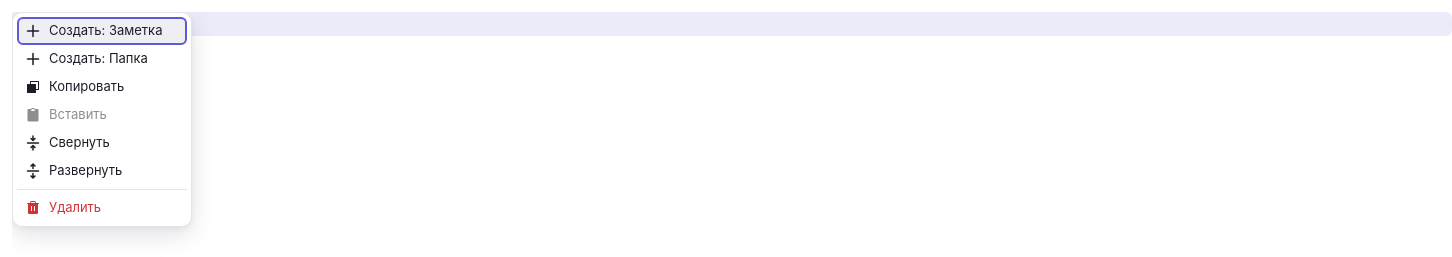
Test case: Tree: context menu › tree_create_addsChildByChangesetAndShowsItInTree
What coordinates should you click on to do the following:
click the menu item "Создать: Заметка"
I would click on:
 (102, 31)
Its box is [17, 17, 187, 45].
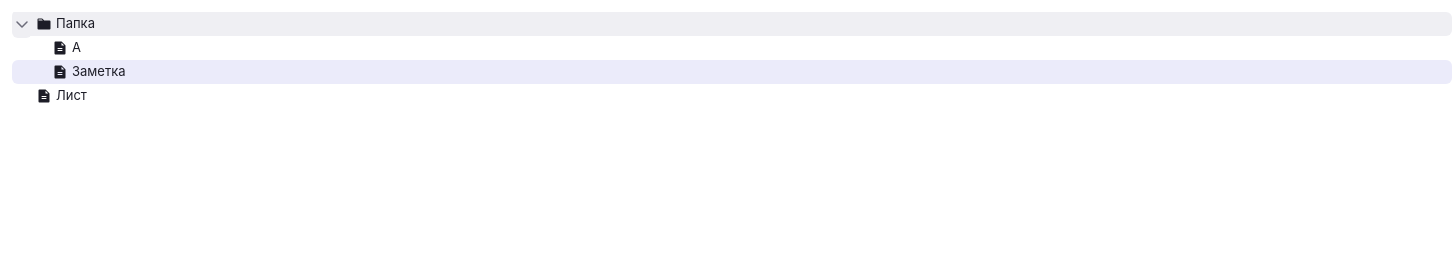
Expected: the menu is gone
